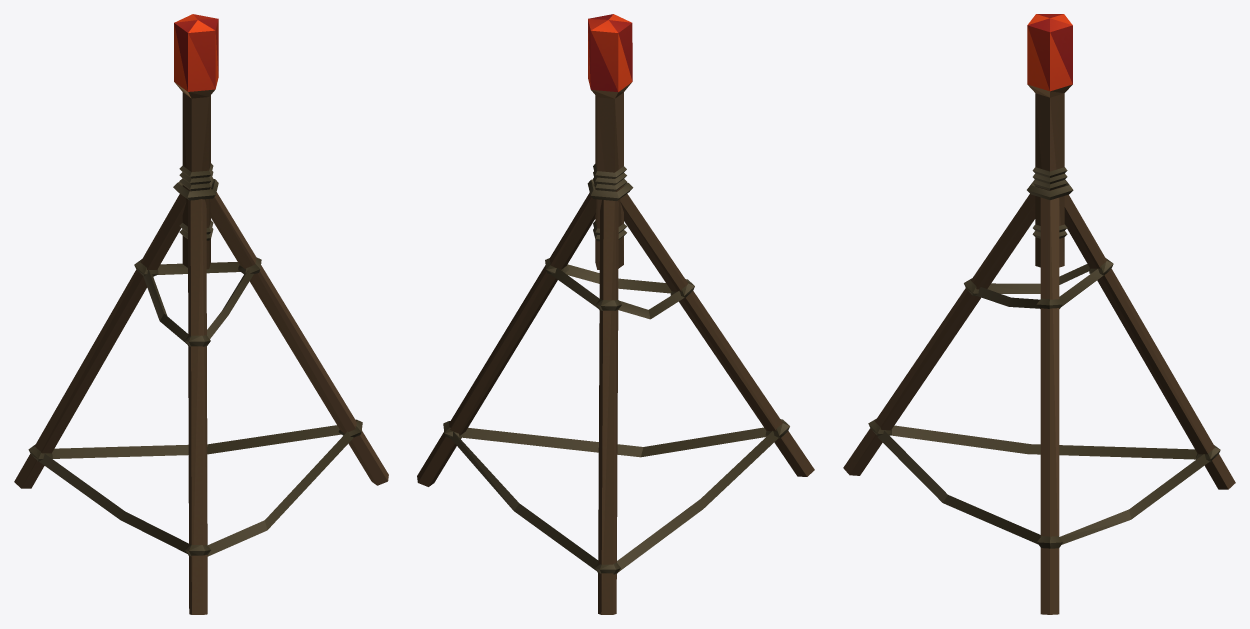
Rendered from Torch_Wood_Lod0.fbx.
3 views of the same model, side by side, from view 1: azimuth 30°, elevation 25°; view 2: azimuth 150°, elevation 25°; view 3: azimuth 270°, elevation 25° (orthographic).
Parts seen in each view (by area): view 1: polySurface1077; view 2: polySurface1077; view 3: polySurface1077.
Part boxes in pixels (x1,y1,x2,y2): polySurface1077: (14,14,388,614); polySurface1077: (417,14,814,614); polySurface1077: (843,14,1235,614).
Bounding box in the file's own units: 193 × 317 × 220.
1 material, 1 textured.
